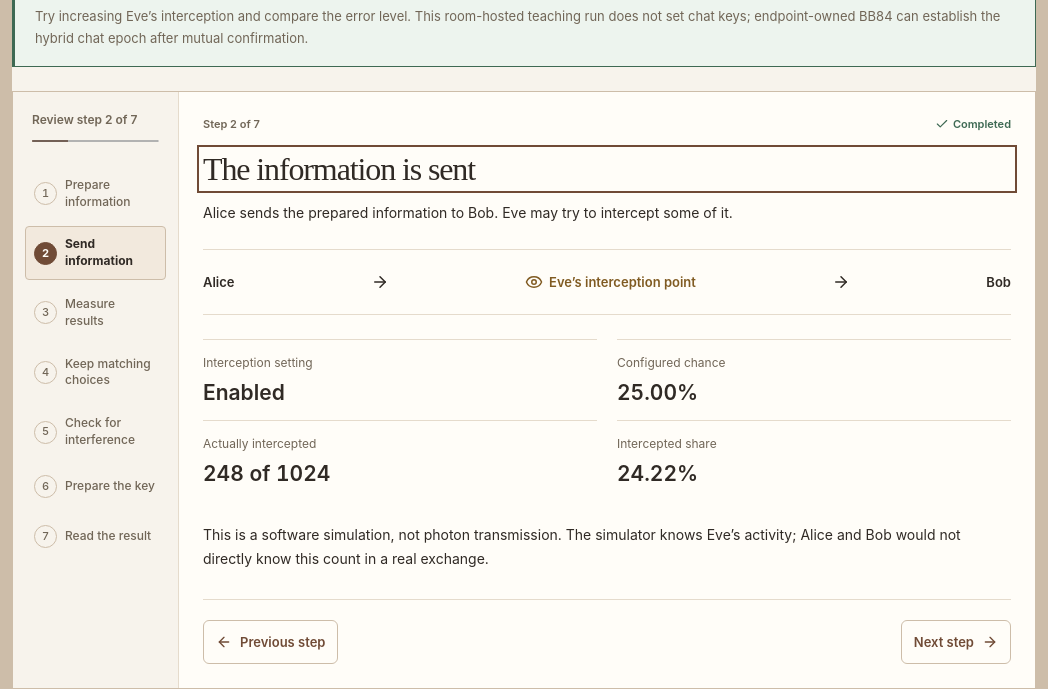
Scenario: recorded experiment walkthrough › walks through real values, choices and outcomes in order without exposing secret bits
Earlier steps of the test are not shown.
Later steps or results of the test are not shown.
(page scrolled)
Expected: the text "248 of 1024" is shown, [203,461,330,486]
Expected: the text "25.00%" is shown, [617,380,698,405]
Click the button "Next step" at (956, 642), box [901,620,1011,664]
(page scrolled)
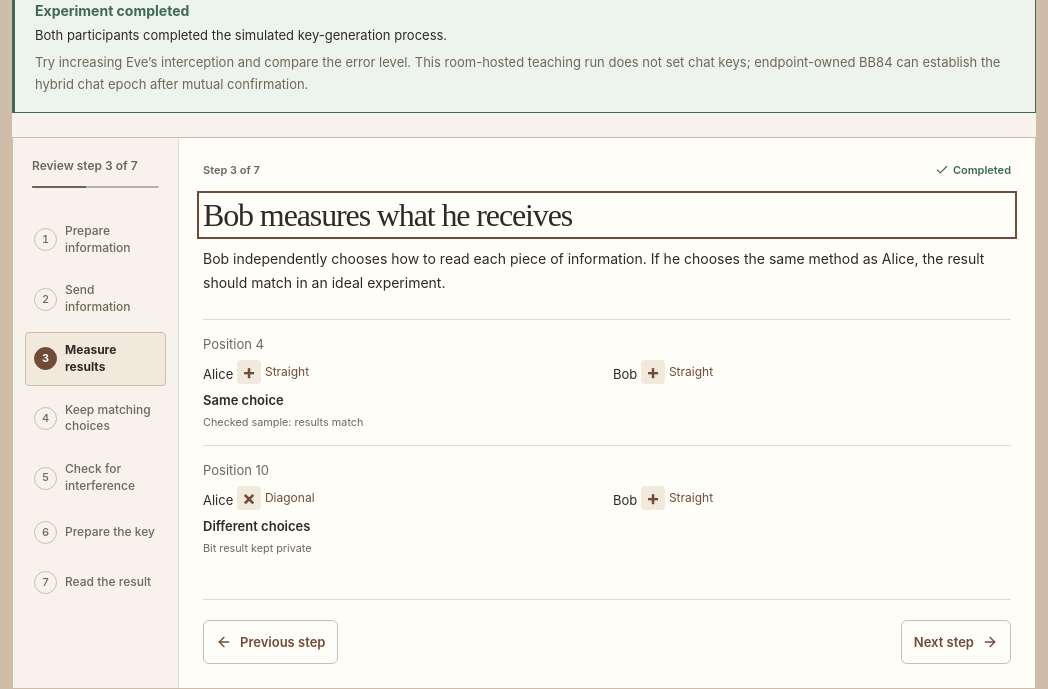
Expected: the text "Position 4" is shown, [203,336,264,352]
Expected: the text "Position 10" is shown, [203,462,269,478]
Expected: the text "Same choice" is shown, [203,392,284,408]
Click the button "Next step" at (956, 642), box [901,620,1011,664]
(page scrolled)
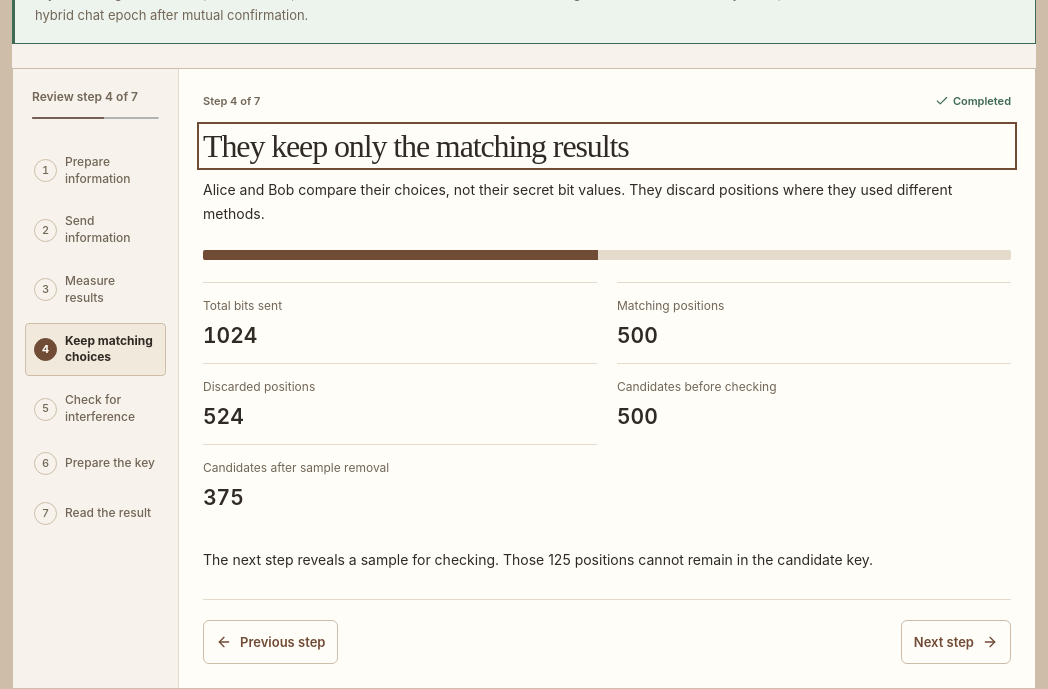
Expected: the text "500" below "Matching positions" is shown, [617,323,658,348]
Expected: the text "524" is shown, [203,404,244,429]
Expected: the text "375" is shown, [203,485,244,510]
Click the button "Next step" at (956, 642), box [901,620,1011,664]
(page scrolled)
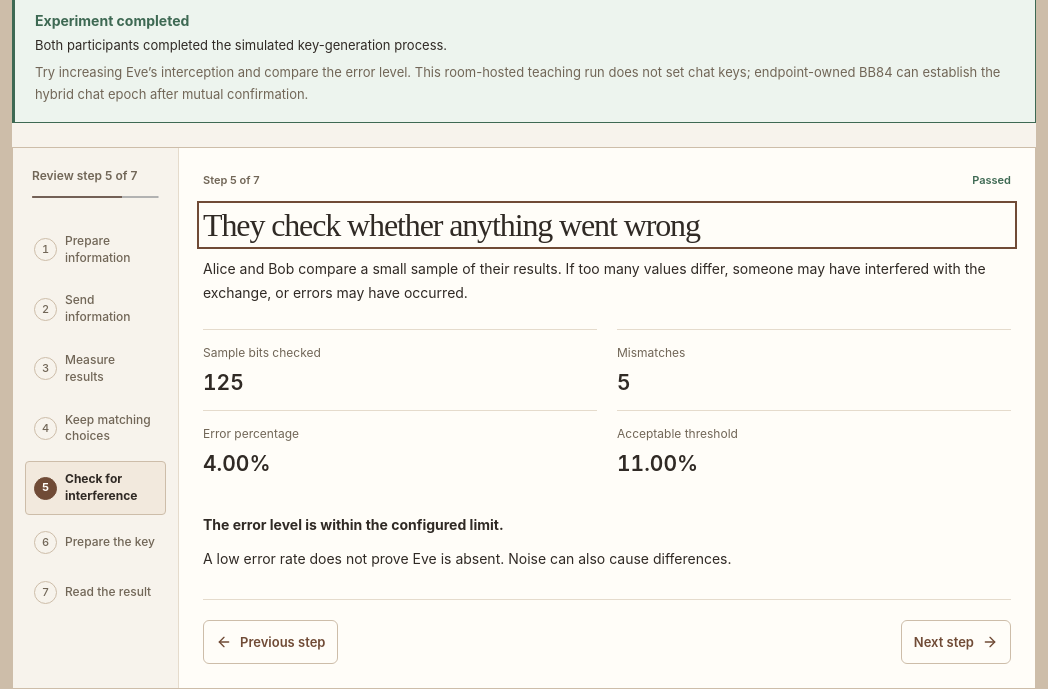
Expected: the text "125" is shown, [203,370,244,395]
Expected: the text "5" below "Mismatches" is shown, [617,370,631,395]
Expected: the text "4.00%" is shown, [203,451,270,476]
Click the button "Next step" at (956, 642), box [901,620,1011,664]
(page scrolled)
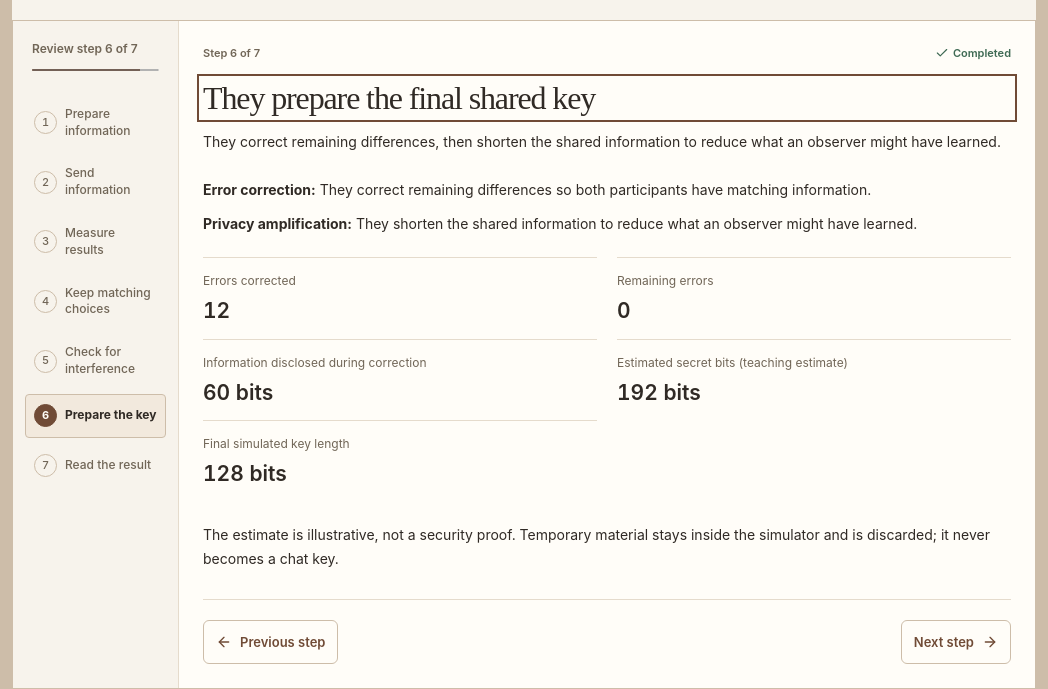
Expected: the text "0" is shown, [617,298,631,323]
Expected: the text "12" is shown, [203,298,230,323]
Expected: the text "60 bits" is shown, [203,380,273,405]
Click the button "Next step" at (956, 642), box [901,620,1011,664]
(page scrolled)
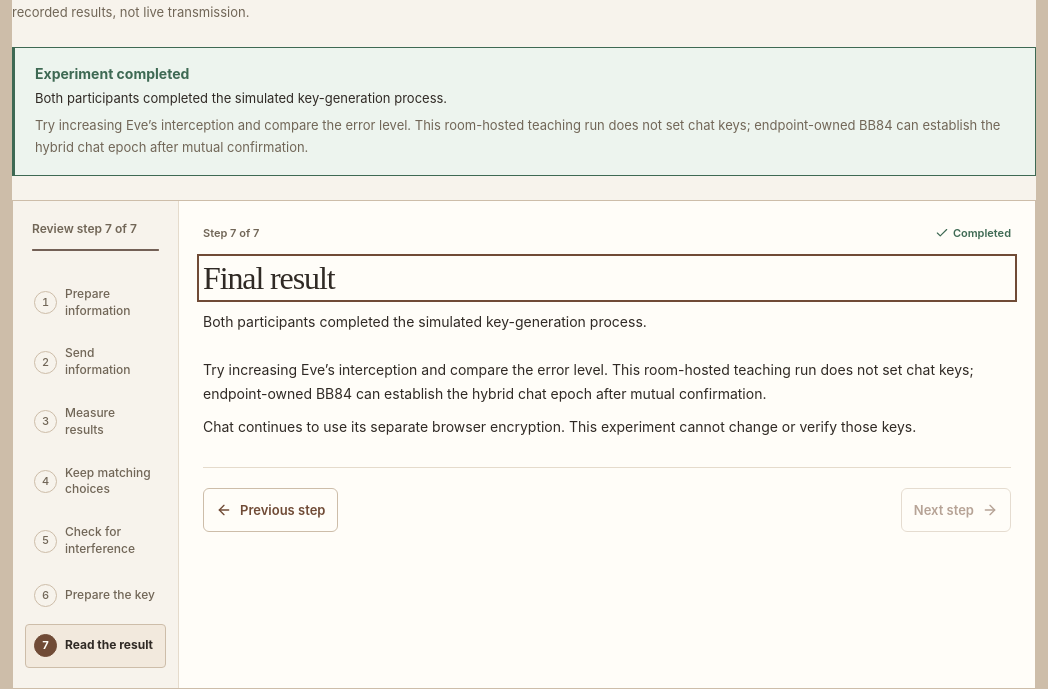
Expected: the button "Next step" is disabled, [901,488,1011,532]
Click the button "Previous step" at (271, 510), box [203,488,338,532]
(page scrolled)
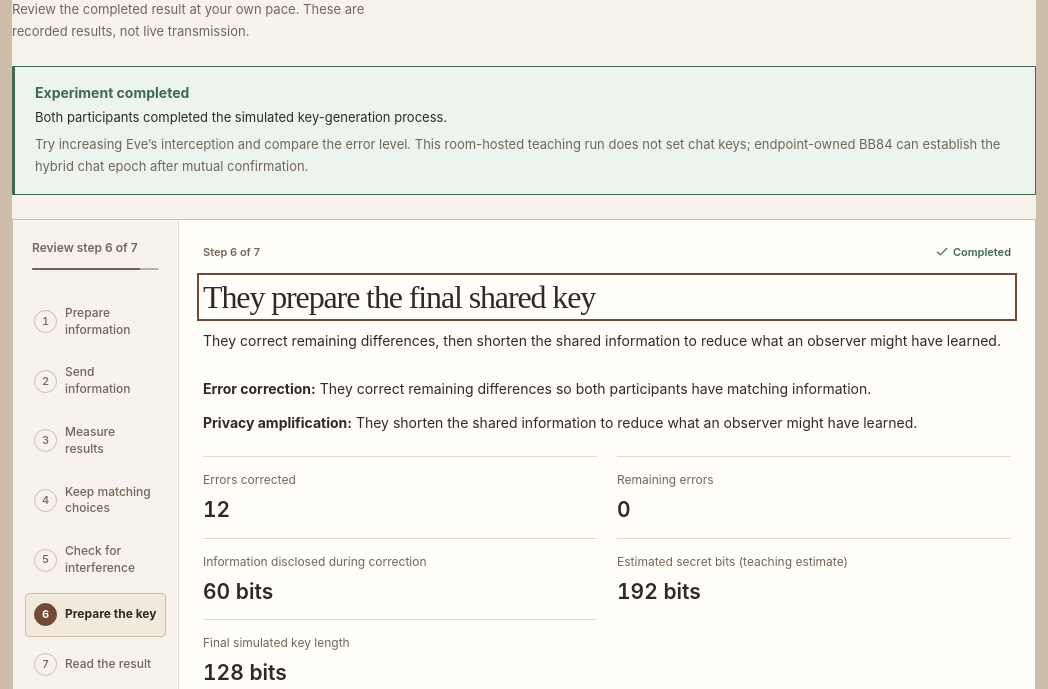
Expected: the progress indicator has attribute value="6", [32,267,159,271]
